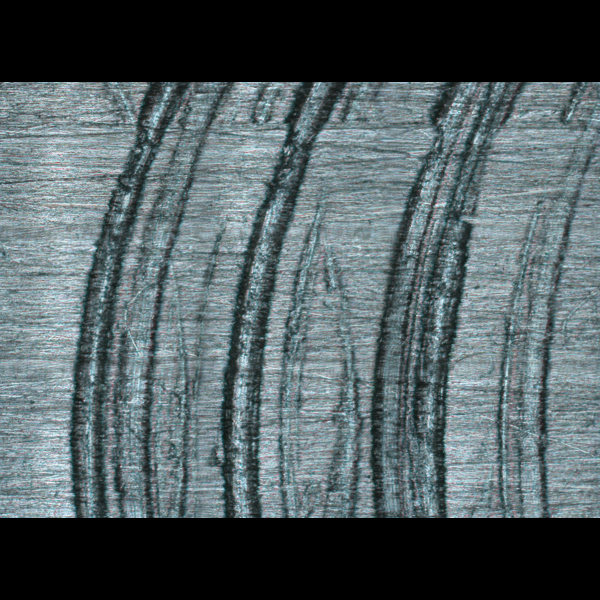d: (66, 82, 579, 517)
